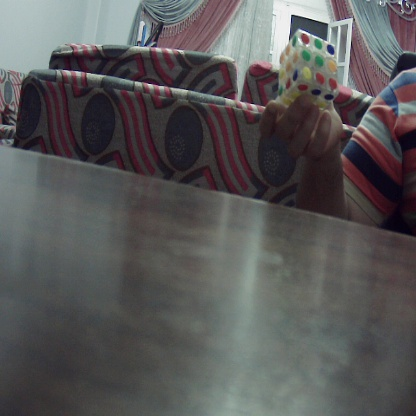Rubix Cube: (277, 31, 338, 110)
